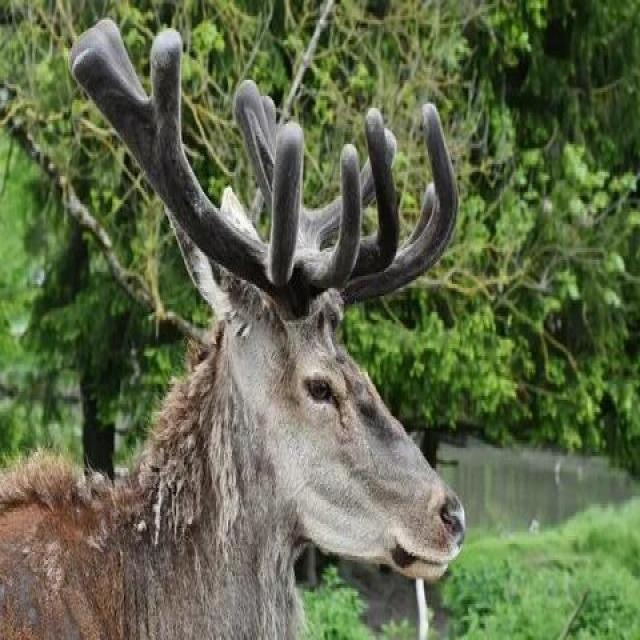deer: (91, 70, 469, 640)
